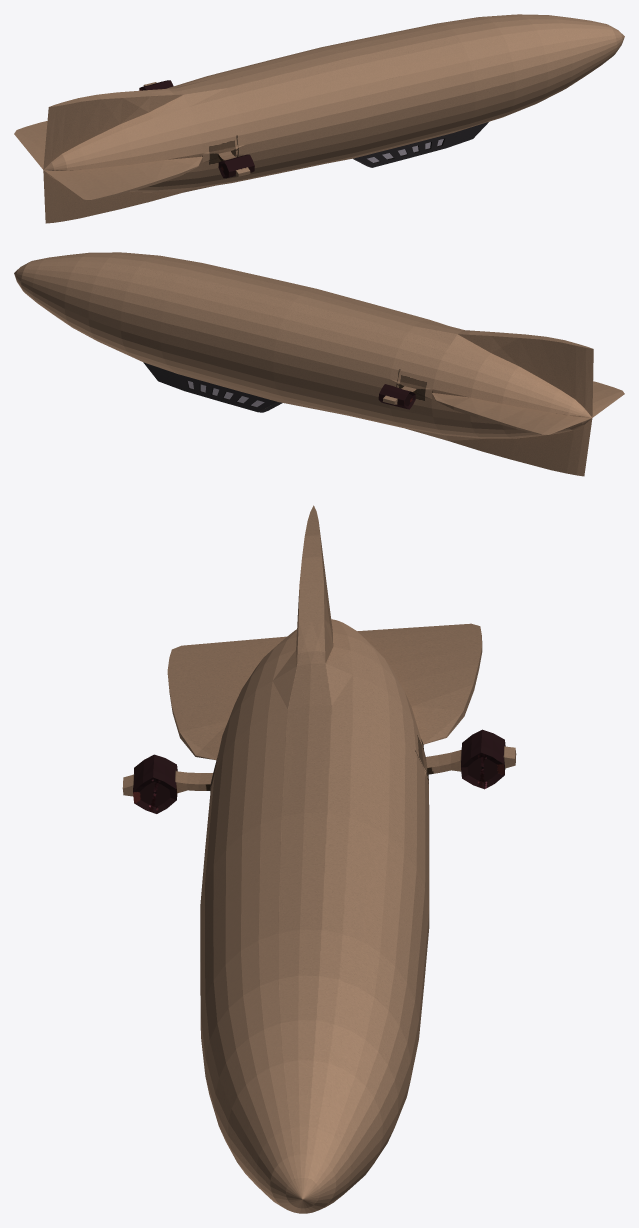
The model's file is Airship4fix.dae.
3 views of the same model, one above another, from view 1: azimuth 30°, elevation 25°; view 2: azimuth 150°, elevation 25°; view 3: azimuth 270°, elevation 25° (orthographic). The views are drawn at different scales.
Visible parts, largest first — view 1: Sphere; view 2: Sphere; view 3: Sphere.
Part boxes in pixels (x1,y1,x2,y2): Sphere: (14, 14, 624, 223); Sphere: (14, 252, 624, 476); Sphere: (122, 505, 516, 1213).
Size of the model in its own units: 12.6 by 3.73 by 2.85.
